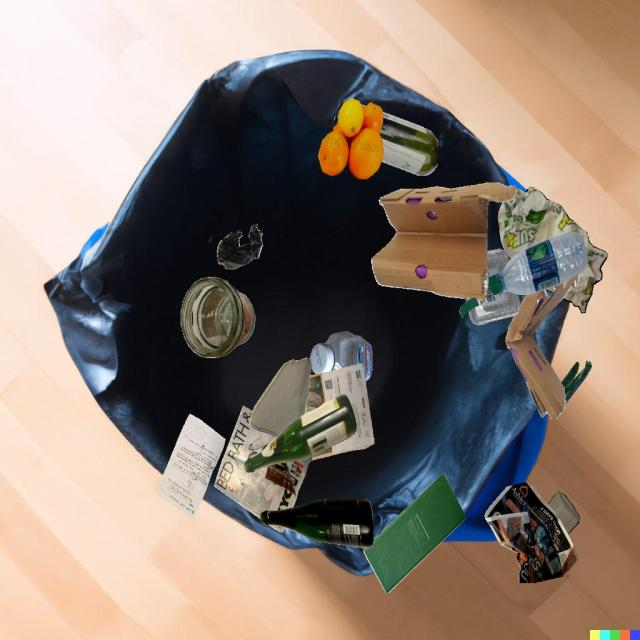biowaste: (318, 98, 383, 179), (561, 361, 592, 404)
cardboard: (371, 183, 516, 304), (505, 274, 579, 420), (249, 357, 312, 437)
glass: (244, 394, 357, 473), (181, 277, 255, 358), (260, 498, 374, 548), (379, 112, 438, 176), (548, 492, 580, 534)
paper: (497, 187, 608, 313), (363, 473, 466, 594), (214, 406, 312, 519), (485, 482, 578, 583), (156, 414, 225, 518), (307, 364, 374, 460)
plastic: (489, 232, 588, 295), (469, 249, 521, 325), (310, 331, 373, 381), (217, 224, 263, 269), (460, 297, 479, 318)
